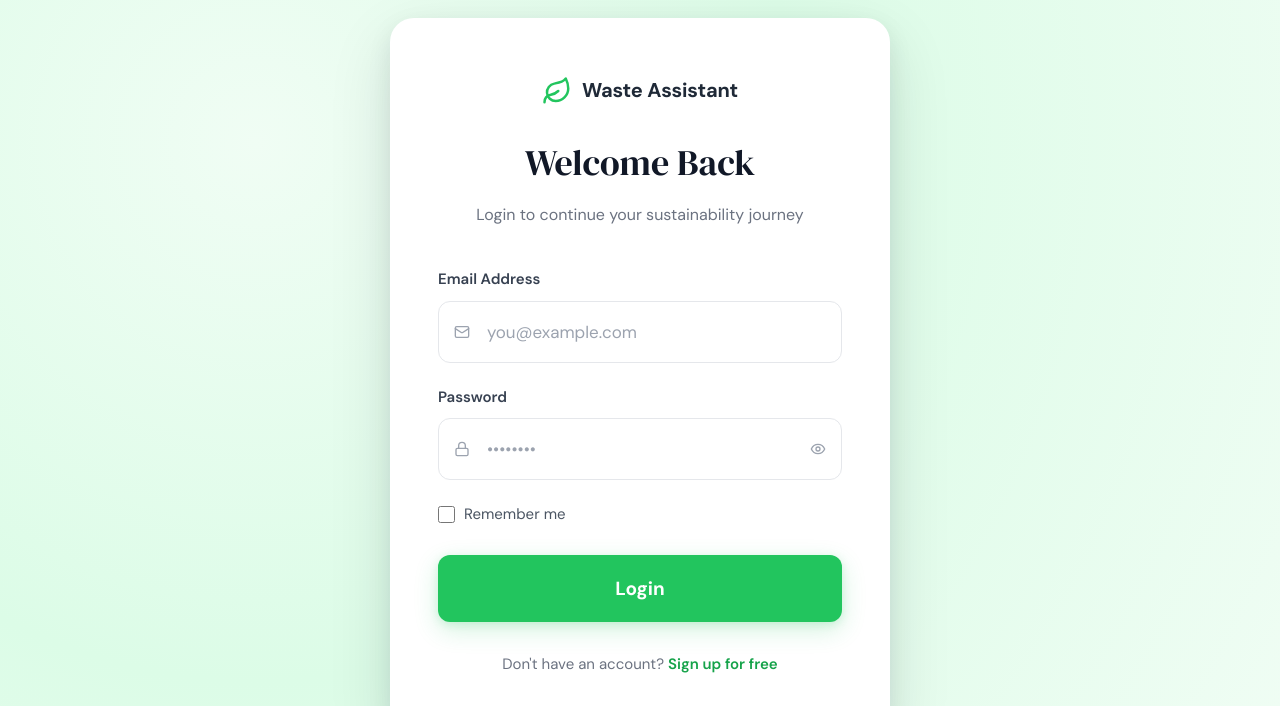
Scenario: App navigation flow › clicking Login here on Register page goes back to Login
Click the text "Sign up for free". click: click(723, 664)
box: x1=668 y1=654 x2=778 y2=674
(page scrolled)
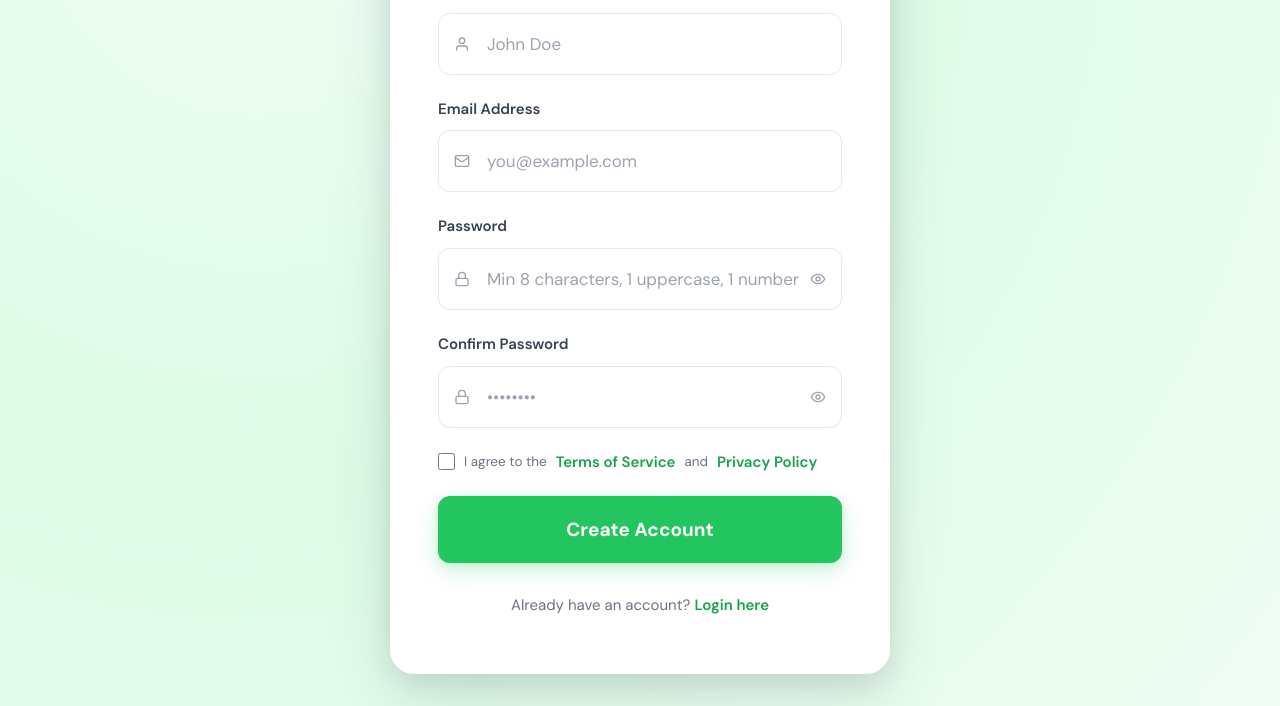
Click the text "Login here". click: click(732, 605)
box: x1=694 y1=595 x2=769 y2=615
(page scrolled)
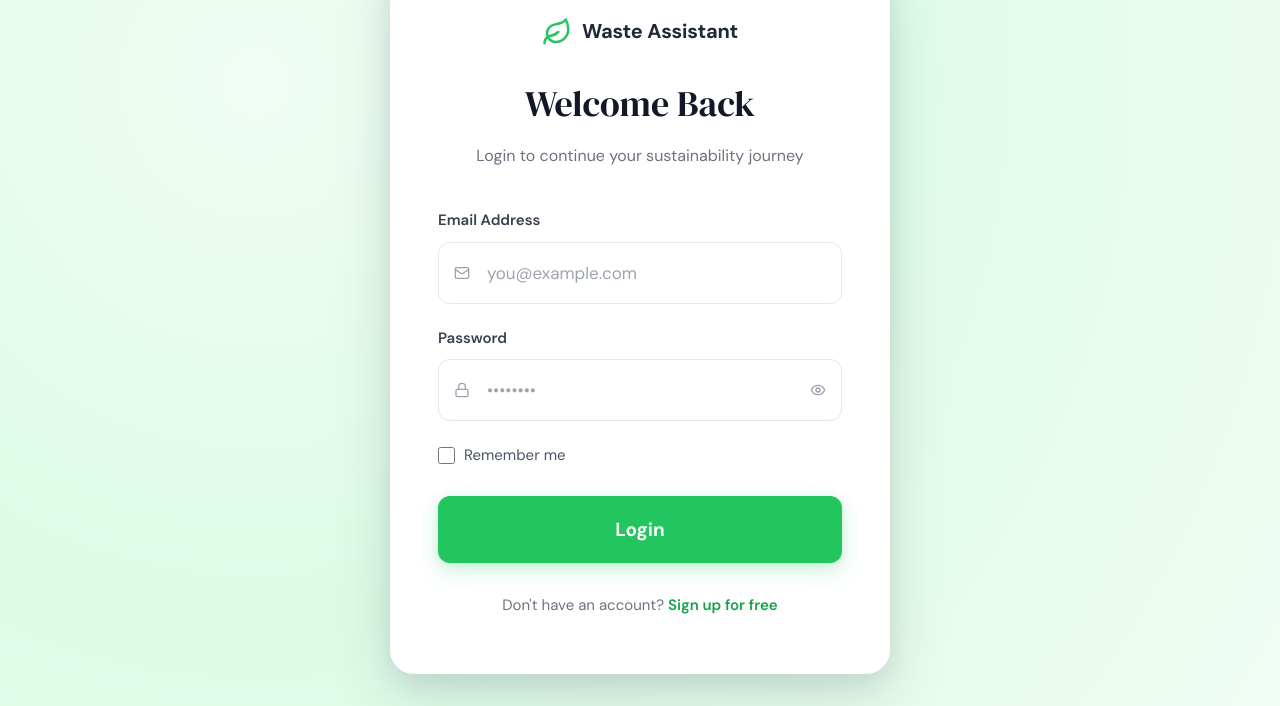
Result: the heading "Welcome Back" is shown at x1=525 y1=79 x2=755 y2=128
